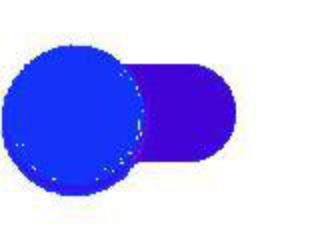Switch: (1, 1, 331, 229)
